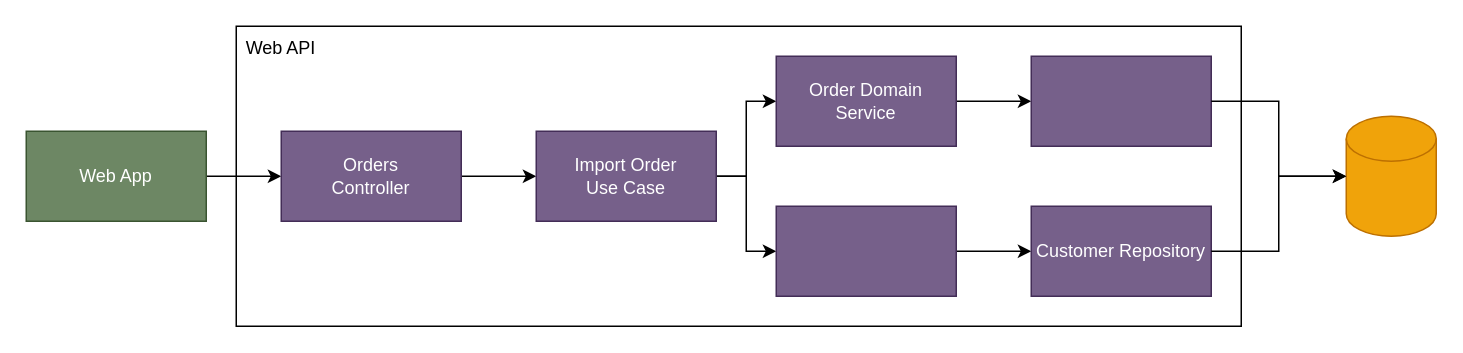
The diagram is 1463 pixels wide and 353 high, and some of its shapes have lost their labels. Each missing label, with the box of its shape:
Order Repository: (1030, 55, 1211, 146)
Product Domain Service: (775, 205, 956, 296)
